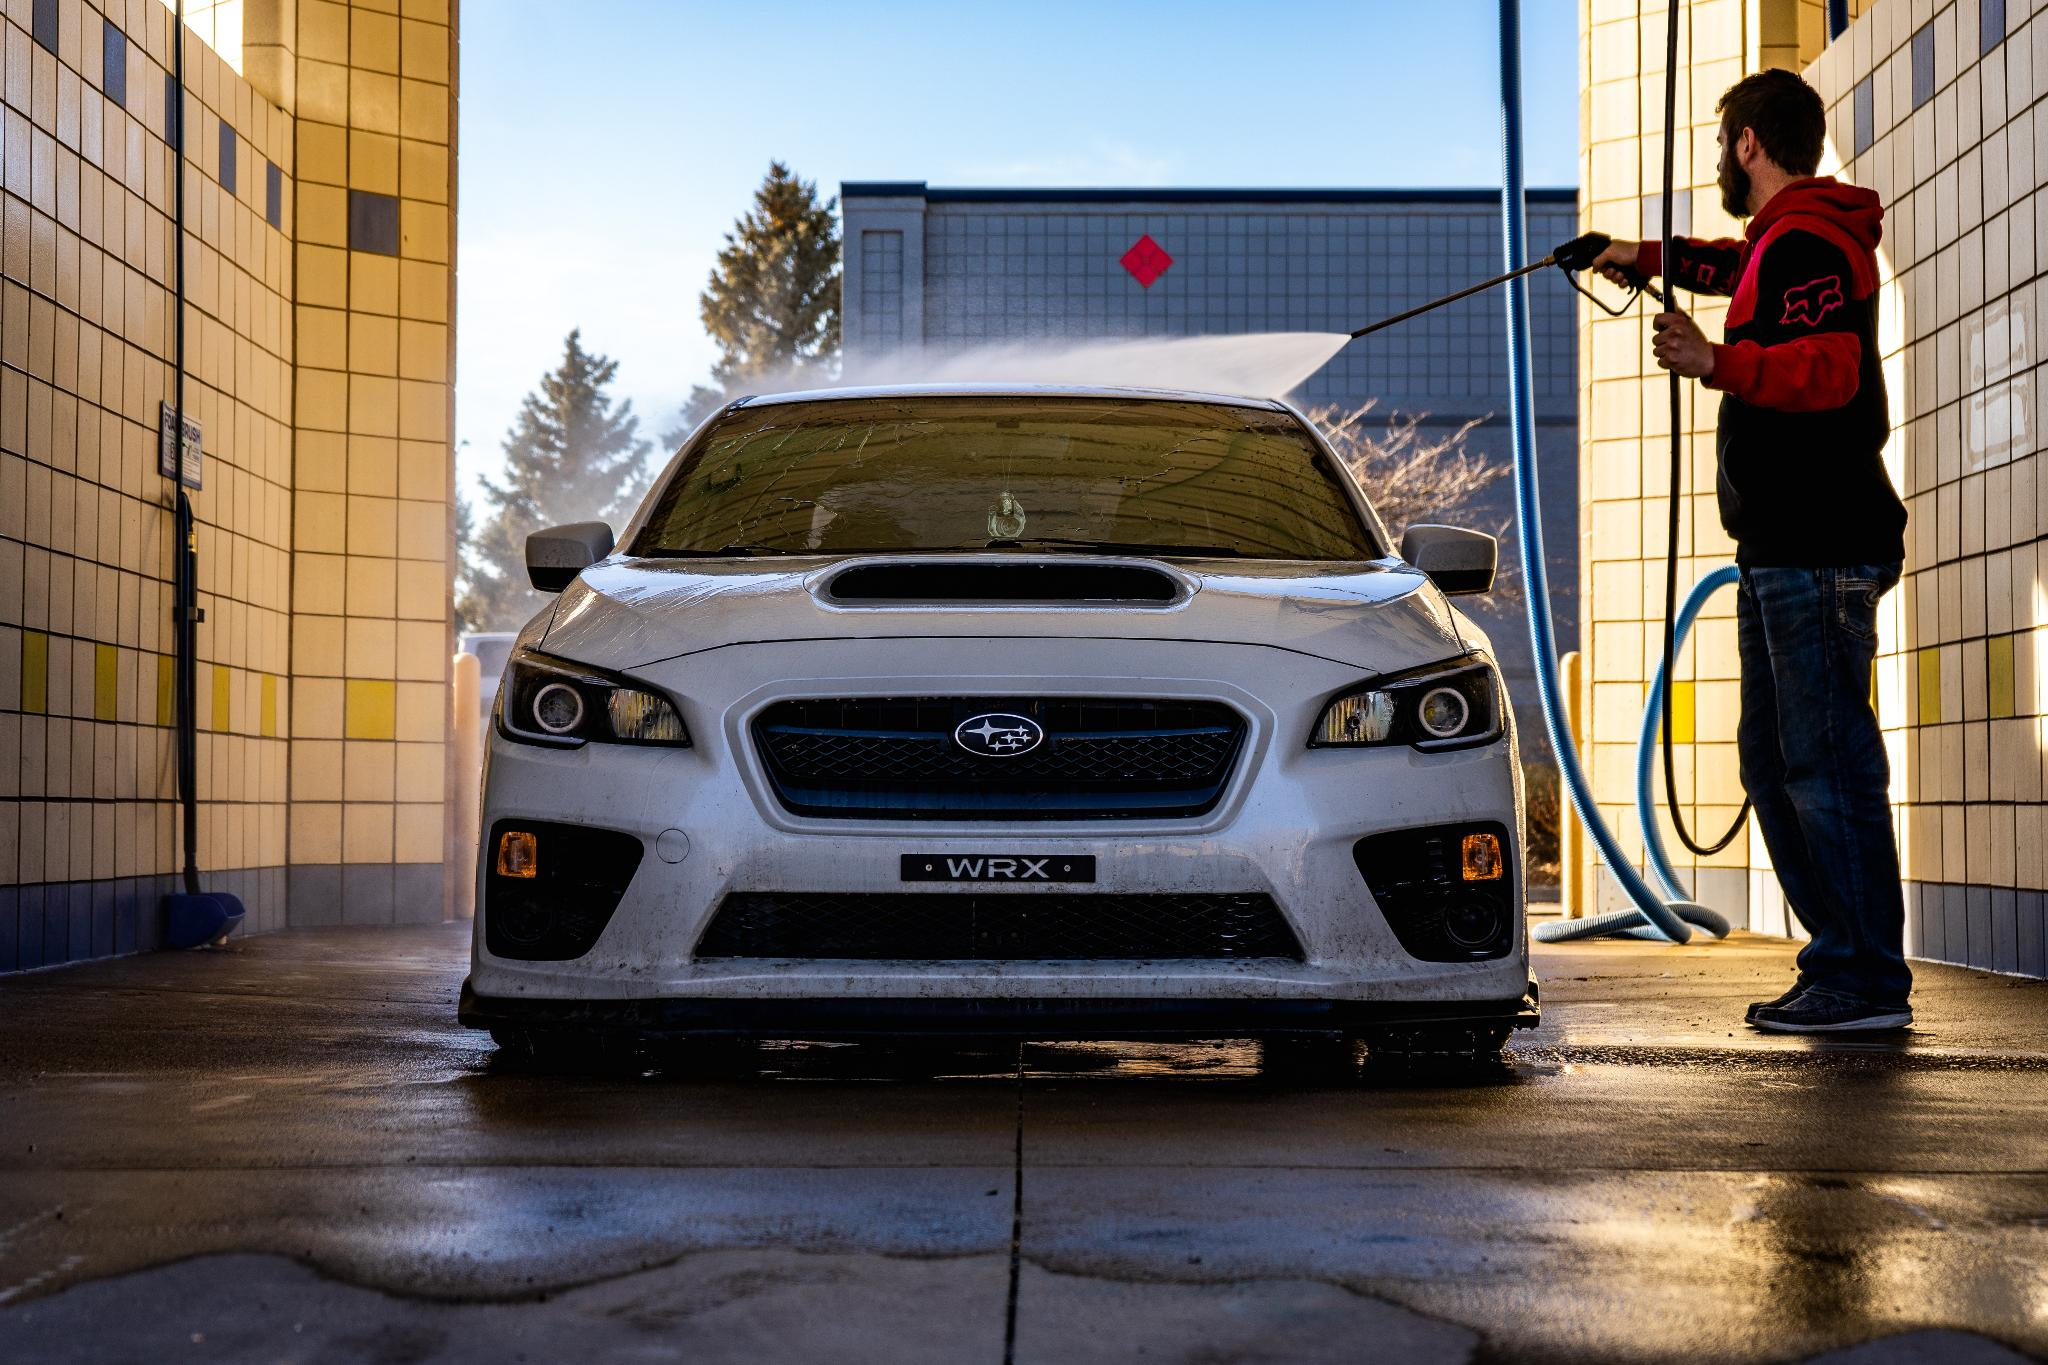subaru: (924, 695, 1066, 772)
